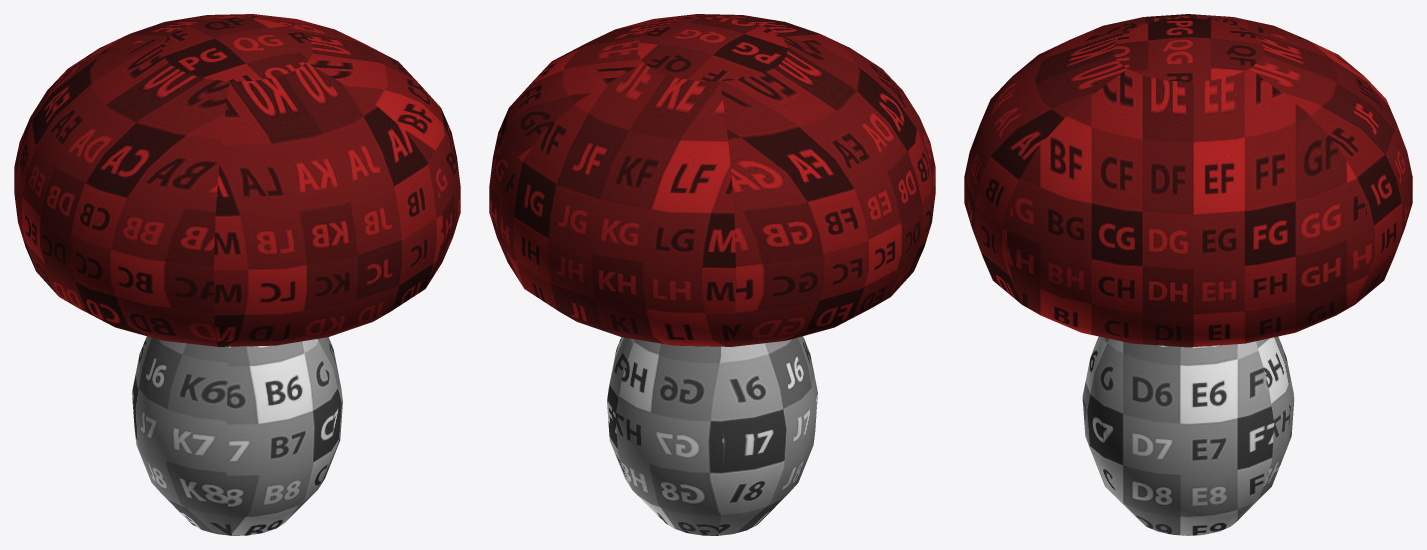
The model's file is Mushroom.fbx.
3 views of the same model, side by side, from view 1: azimuth 30°, elevation 25°; view 2: azimuth 150°, elevation 25°; view 3: azimuth 270°, elevation 25° (orthographic).
Parts seen in each view (by area): view 1: Top, Stem; view 2: Top, Stem; view 3: Top, Stem.
Part boxes in pixels (x1=…): Top: x1=14, y1=14, x2=460, y2=346; Stem: x1=132, y1=336, x2=342, y2=535; Top: x1=489, y1=14, x2=935, y2=346; Stem: x1=607, y1=336, x2=817, y2=535; Top: x1=964, y1=14, x2=1412, y2=347; Stem: x1=1082, y1=336, x2=1294, y2=535.
Bounding box in the file's own units: 3.25 × 3.84 × 3.25.
Materials: 2 (2 with a texture image).
